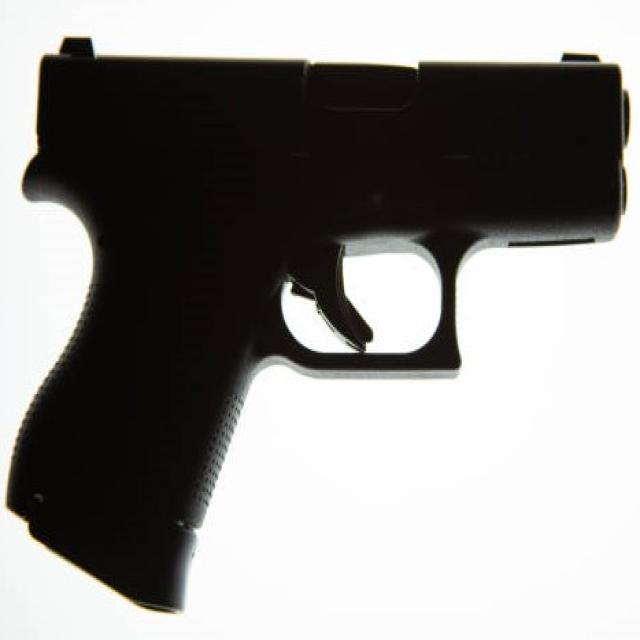pistol: (4, 25, 638, 621)
